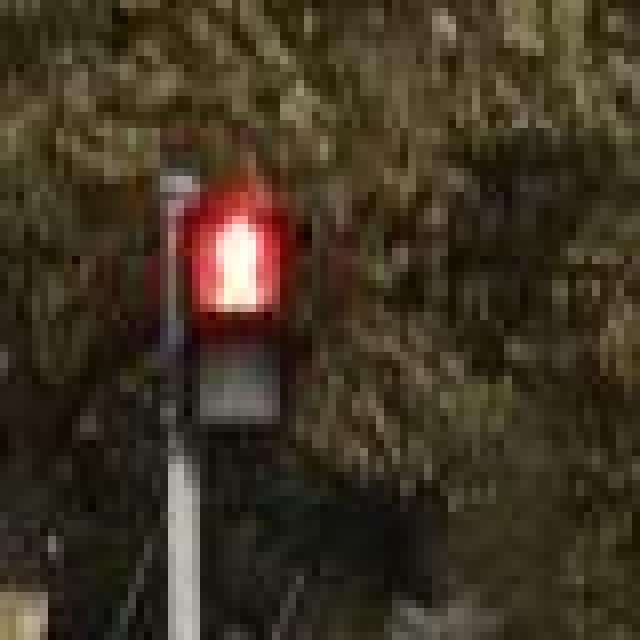redlight: (144, 128, 320, 440)
